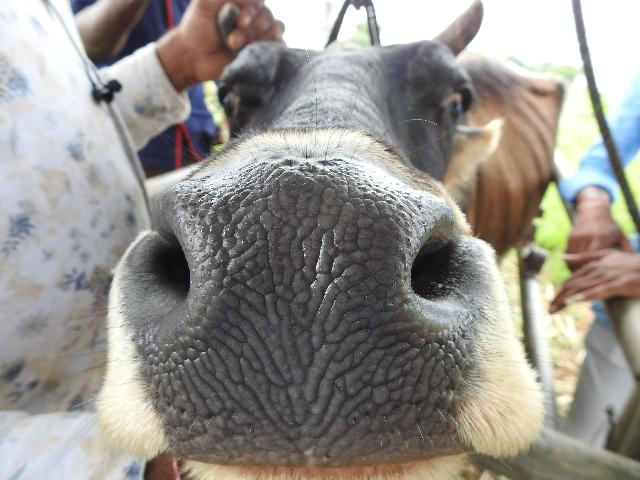Muzzle: (172, 188, 418, 456)
